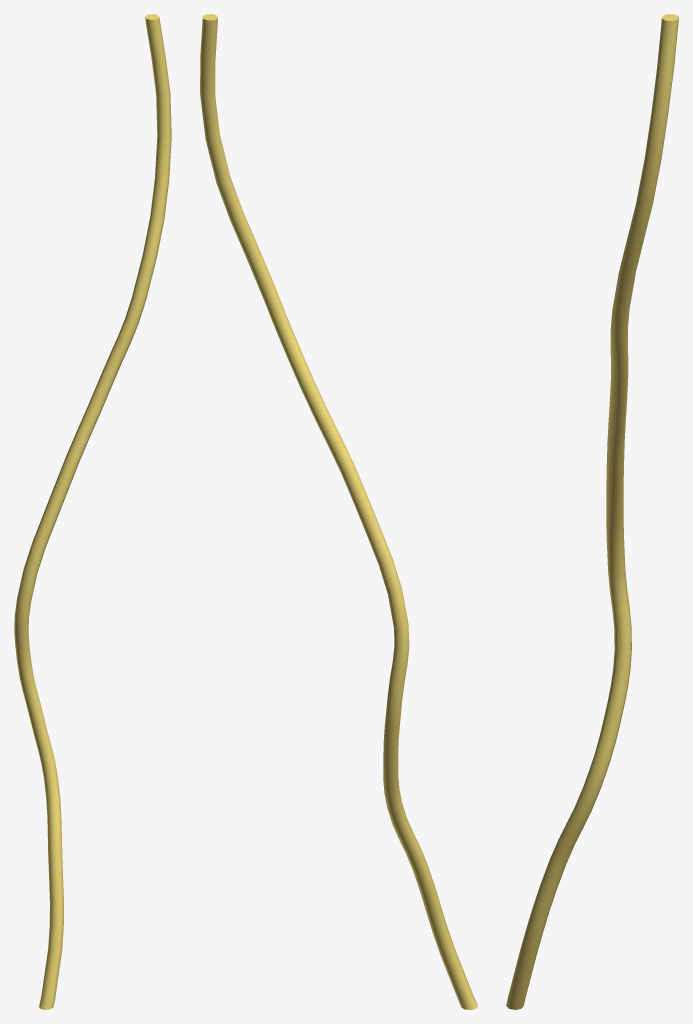
Rendered from nerf-median.glb.
3 renders of one model, left to right at view 1: azimuth 30°, elevation 25°; view 2: azimuth 150°, elevation 25°; view 3: azimuth 270°, elevation 25°, orthographic. The views are drawn at different scales.
Parts seen in each view (by area): view 1: nerf-median; view 2: nerf-median; view 3: nerf-median.
Part boxes in pixels (left/top/right/bottom): nerf-median: left=14, top=14, right=171, bottom=1009; nerf-median: left=200, top=14, right=477, bottom=1009; nerf-median: left=506, top=14, right=678, bottom=1009.
Size of the model in its own units: 0.0529 by 0.24 by 0.0345.
